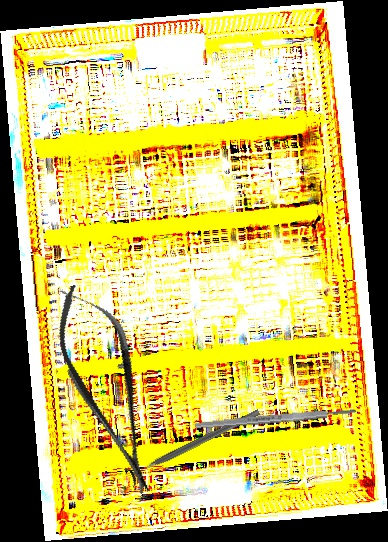Fixation Ring: (123, 402, 265, 489)
Micro Scissor: (40, 274, 175, 505)
Scalpel Handle: (193, 406, 358, 431)
